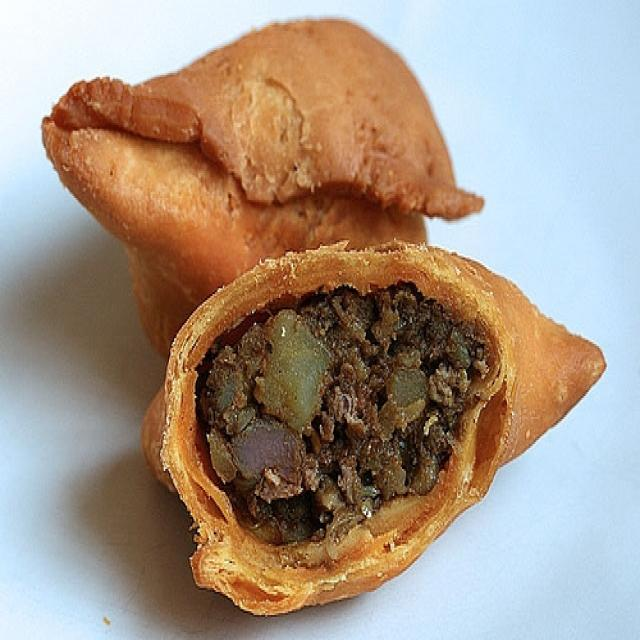炸货点心: (33, 25, 602, 602)
